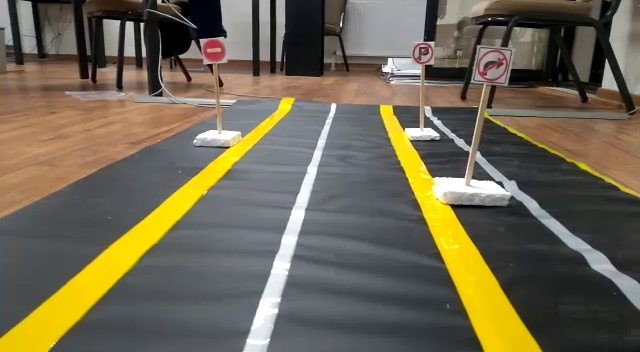girisi_olmayan_yol: (199, 38, 228, 63)
park_yapilmaz: (411, 41, 435, 64)
saga_donulmez: (476, 46, 510, 85)
